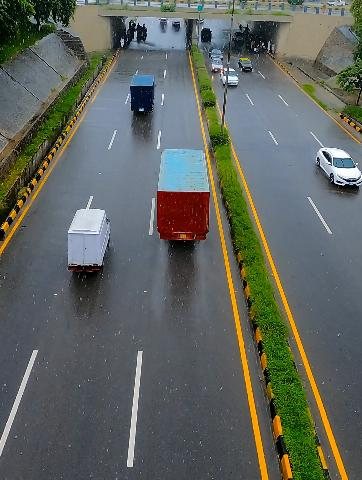car: (314, 142, 362, 193), (223, 66, 240, 90), (239, 55, 257, 74), (208, 48, 226, 60), (212, 55, 224, 72)
truck: (160, 149, 211, 248), (130, 75, 159, 115)
van: (66, 207, 116, 279)
